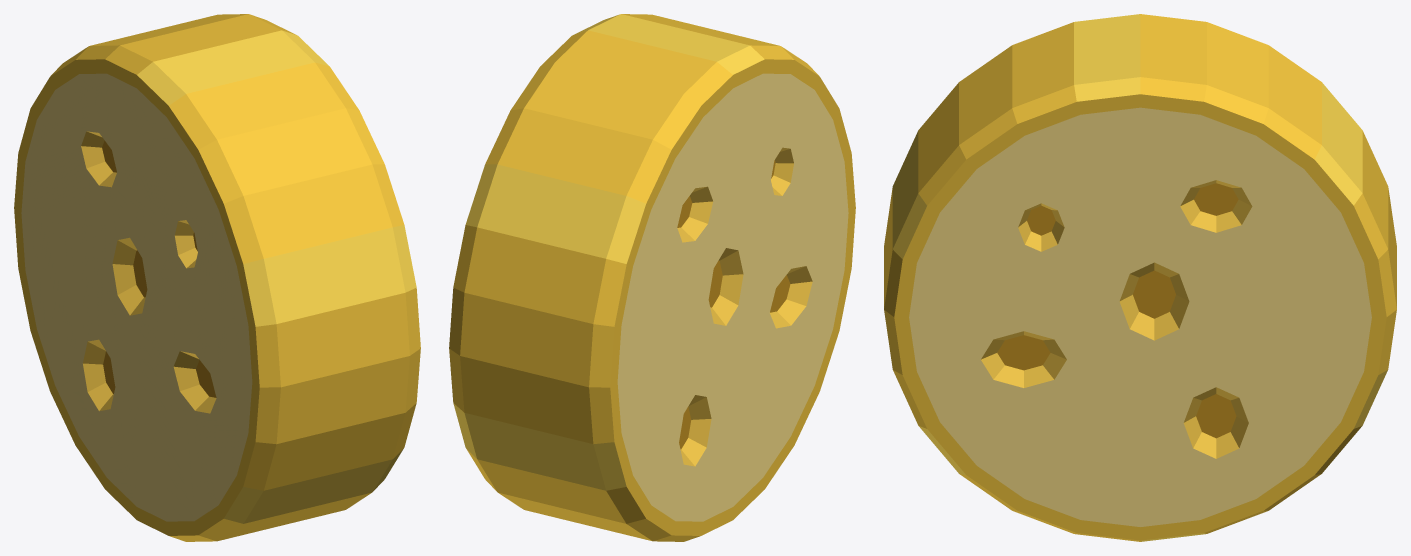
Rendered from syr.glb.
3 views of the same model, side by side, from view 1: azimuth 30°, elevation 25°; view 2: azimuth 150°, elevation 25°; view 3: azimuth 270°, elevation 25° (orthographic).
Parts seen in each view (by area): view 1: half_b_flesh, half_b_cheese_rind, half_a_cheese_rind, half_b_cheese_rind_light, half_a_cheese_rind_light, half_b_hole_side, half_b_hole_depth; view 2: half_b_flesh, half_b_cheese_rind, half_a_cheese_rind, half_b_cheese_rind_light, half_a_cheese_rind_light, half_b_hole_side, half_b_hole_depth; view 3: half_a_flesh, half_a_cheese_rind, half_b_cheese_rind, half_a_hole_side, half_a_cheese_rind_light, half_a_hole_depth, half_b_cheese_rind_light.
Part boxes in pixels (<box>): half_b_flesh: <box>21,73,252,521</box>; half_b_cheese_rind: <box>14,29,345,541</box>; half_a_cheese_rind: <box>154,14,420,525</box>; half_b_cheese_rind_light: <box>137,46,340,523</box>; half_a_cheese_rind_light: <box>218,30,416,507</box>; half_b_hole_side: <box>81,131,216,413</box>; half_b_hole_depth: <box>102,140,216,397</box>; half_b_flesh: <box>617,73,848,521</box>; half_b_cheese_rind: <box>524,29,855,541</box>; half_a_cheese_rind: <box>449,14,715,525</box>; half_b_cheese_rind_light: <box>529,29,764,490</box>; half_a_cheese_rind_light: <box>453,14,684,474</box>; half_b_hole_side: <box>677,147,812,466</box>; half_b_hole_depth: <box>677,160,790,449</box>; half_a_flesh: <box>909,107,1371,526</box>; half_a_cheese_rind: <box>884,45,1396,541</box>; half_b_cheese_rind: <box>884,14,1396,276</box>; half_a_hole_side: <box>981,180,1252,458</box>; half_a_cheese_rind_light: <box>892,45,1387,541</box>; half_a_hole_depth: <box>997,183,1238,438</box>; half_b_cheese_rind_light: <box>892,14,1362,217</box>.
Size of the model in its own units: 0.16 by 0.44 by 0.44.
